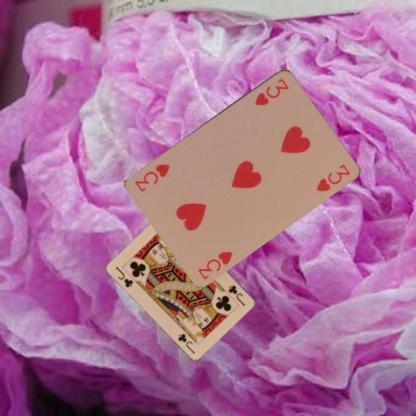3h: (251, 75, 292, 107), (195, 248, 234, 281)
Jc: (113, 264, 135, 289), (226, 283, 247, 308)
